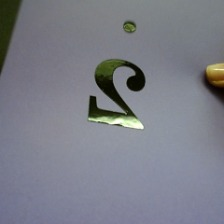violet2: (84, 17, 152, 141)
